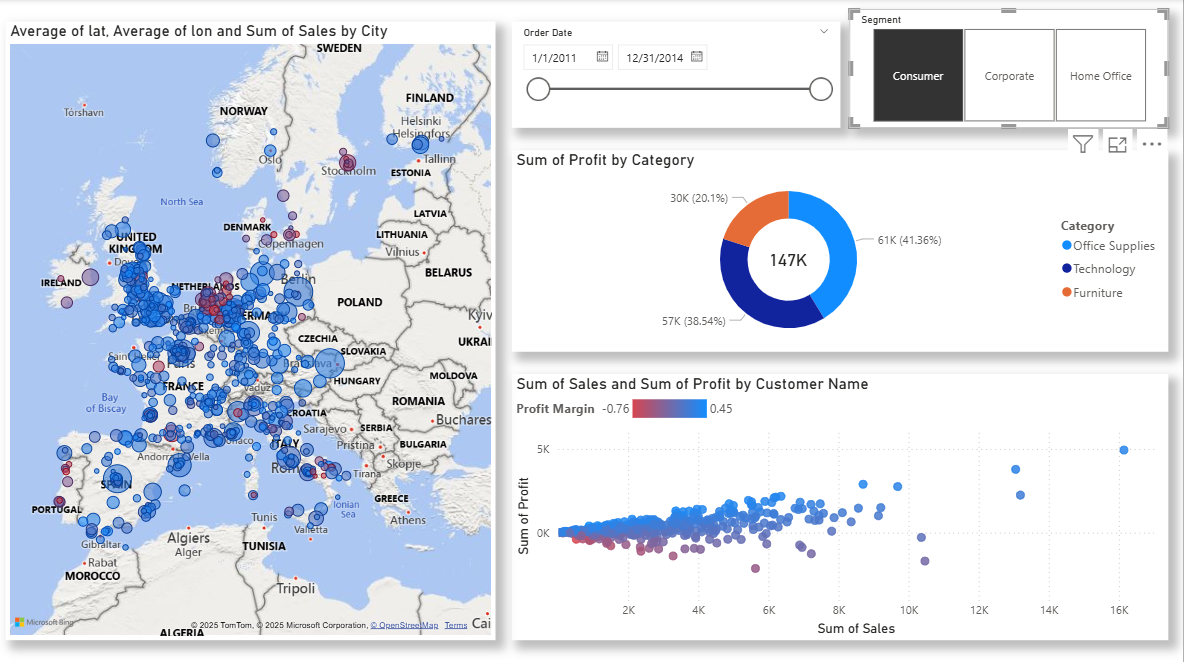

Layout of this report page (visuals, bound fields, positions):
{"tool":"powerbi","page":{"name":"Duplicate of Page 3","canvas":[1280,720],"ordinal":0},"visuals":[{"type":"scatterChart","fields":{"X":["Sum(OrderBreakdown.Sales)"],"Y":["Sum(OrderBreakdown.Profit)"],"Category":["ListOfOrders.Customer Name"]},"box":[558.1,403.4,706,286.4],"z":0},{"type":"map","fields":{"Category":["ListOfOrders.Geography.Country","ListOfOrders.Geography.State","ListOfOrders.Geography.City"],"Y":["Avg(ListOfOrders.lat)"],"X":["Avg(ListOfOrders.lon)"],"Size":["Sum(OrderBreakdown.Sales)"]},"box":[13.4,24.2,527.2,665.7],"z":1000},{"type":"slicer","fields":{"Values":["ListOfOrders.Order Date"]},"box":[558.1,24.2,353.7,114.3],"z":2000},{"type":"slicer","fields":{"Values":["ListOfOrders.Segment"]},"box":[921.2,10.8,342.9,127.8],"z":3000},{"type":"donutChart","fields":{"Y":["Sum(OrderBreakdown.Profit)"],"Category":["OrderBreakdown.Category"]},"box":[558.1,162.7,706,216.5],"z":4000},{"type":"card","fields":{"Values":["Sum(OrderBreakdown.Profit)"]},"box":[820.3,260.9,69.9,41.7],"z":5000}]}

Visuals, with their boxes in screenshot pixels (x1, y1, x2, y2), scaled from the page's 1280x720 canvas onto the 1184x662 screenshot:
scatterChart - Sum(OrderBreakdown.Sales) x Sum(OrderBreakdown.Profit): bbox=(516, 371, 1169, 634)
map - ListOfOrders.Geography.Country x ListOfOrders.Geography.State: bbox=(12, 22, 500, 634)
slicer - ListOfOrders.Order Date: bbox=(516, 22, 843, 127)
slicer - ListOfOrders.Segment: bbox=(852, 10, 1169, 127)
donutChart - Sum(OrderBreakdown.Profit) x OrderBreakdown.Category: bbox=(516, 150, 1169, 349)
card - Sum(OrderBreakdown.Profit): bbox=(759, 240, 823, 278)
